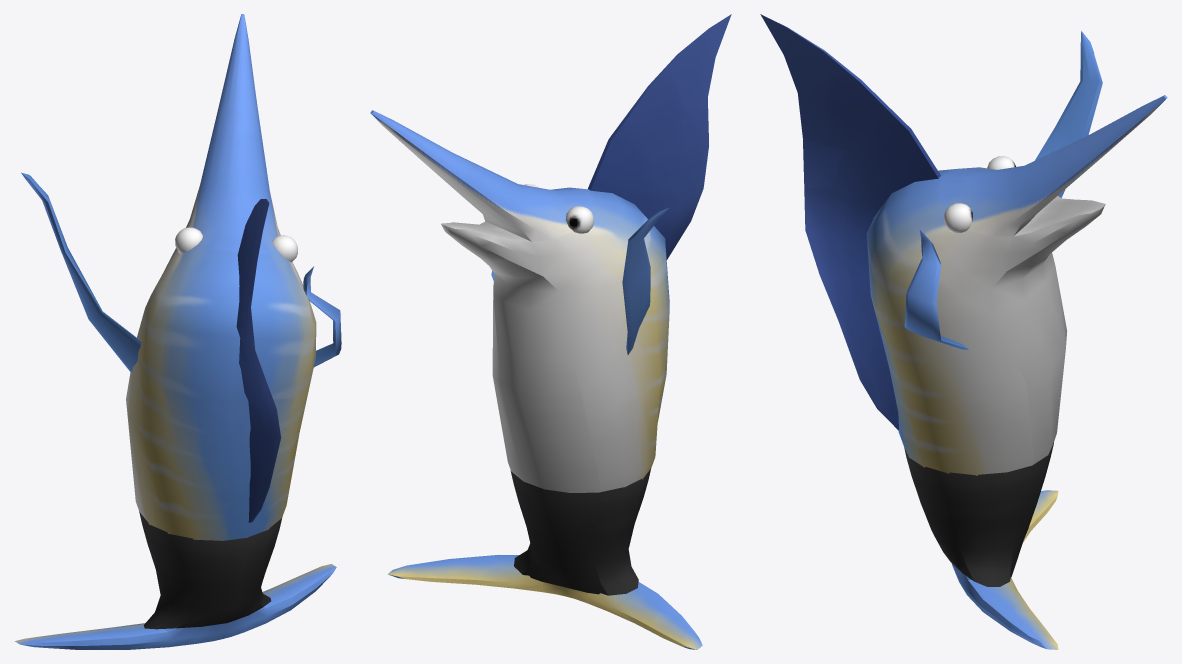
The model's file is kajiki_attack_06.fbx.
The picture shows the model from 3 angles, left to right: view 1: azimuth 30°, elevation 25°; view 2: azimuth 150°, elevation 25°; view 3: azimuth 270°, elevation 25°; orthographic projection. The views are drawn at different scales.
Visible parts, largest first — view 1: A_06; view 2: A_06; view 3: A_06.
Boxes of the visible parts, box(x1,y1,x2,y2) form: A_06: box(15, 14, 341, 649); A_06: box(370, 14, 731, 649); A_06: box(760, 14, 1167, 649).
Bounding box in the file's own units: 1.46 × 2.31 × 1.58.
1 material, 1 textured.
